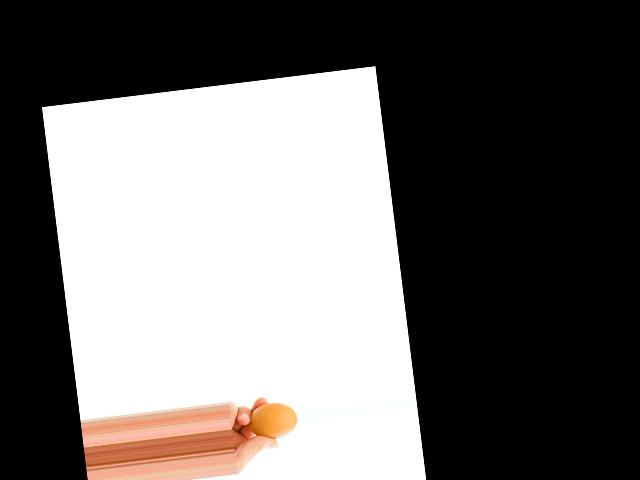egg: (248, 399, 299, 441)
